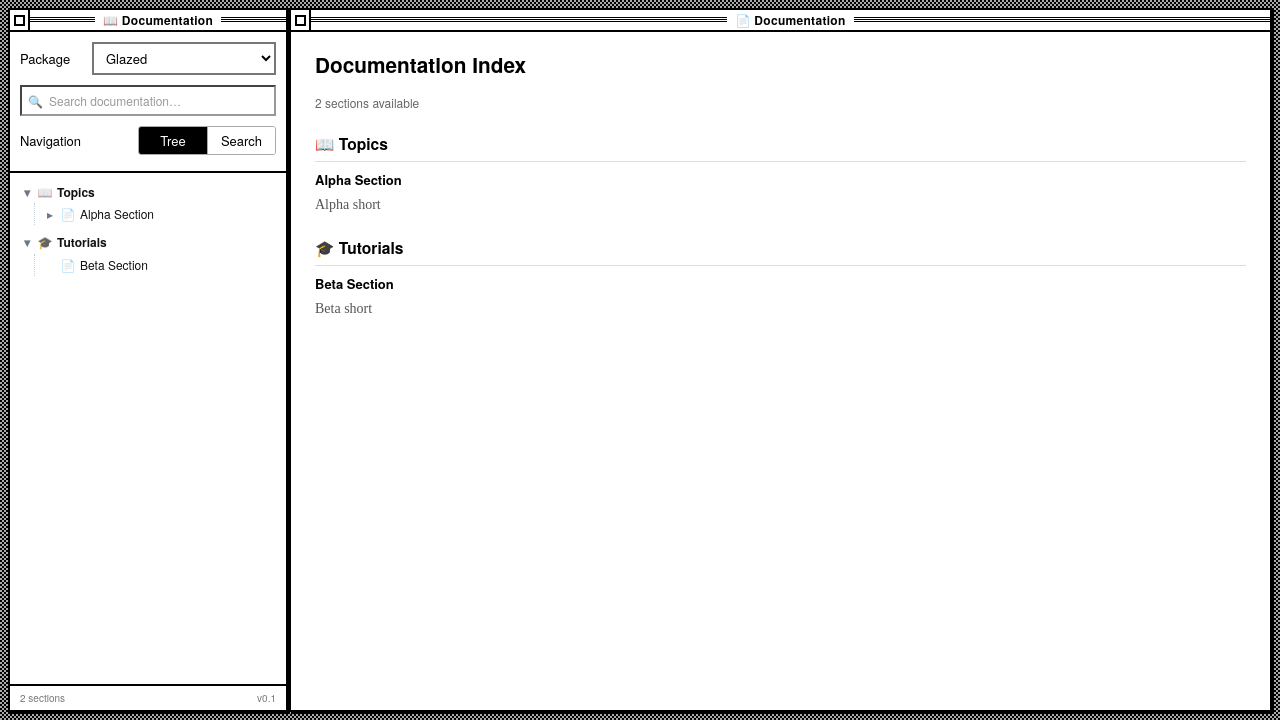
Test case: App tree navigation › switches between tree and search navigation modes
Expected: the element named "Documentation tree" is shown, [10,173,286,684]
Click the button "Search": (241, 140) [207,127,275,154]
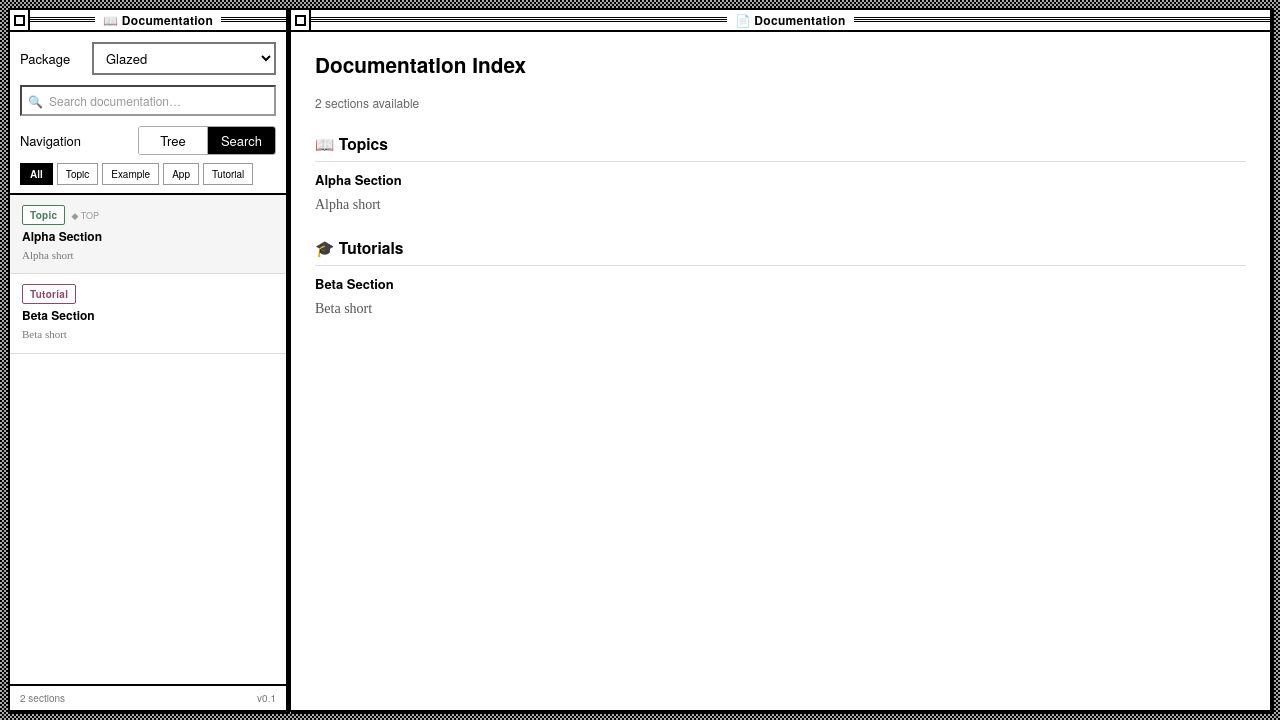
Expected: the list named "Sections" is shown, [10,195,286,354]
